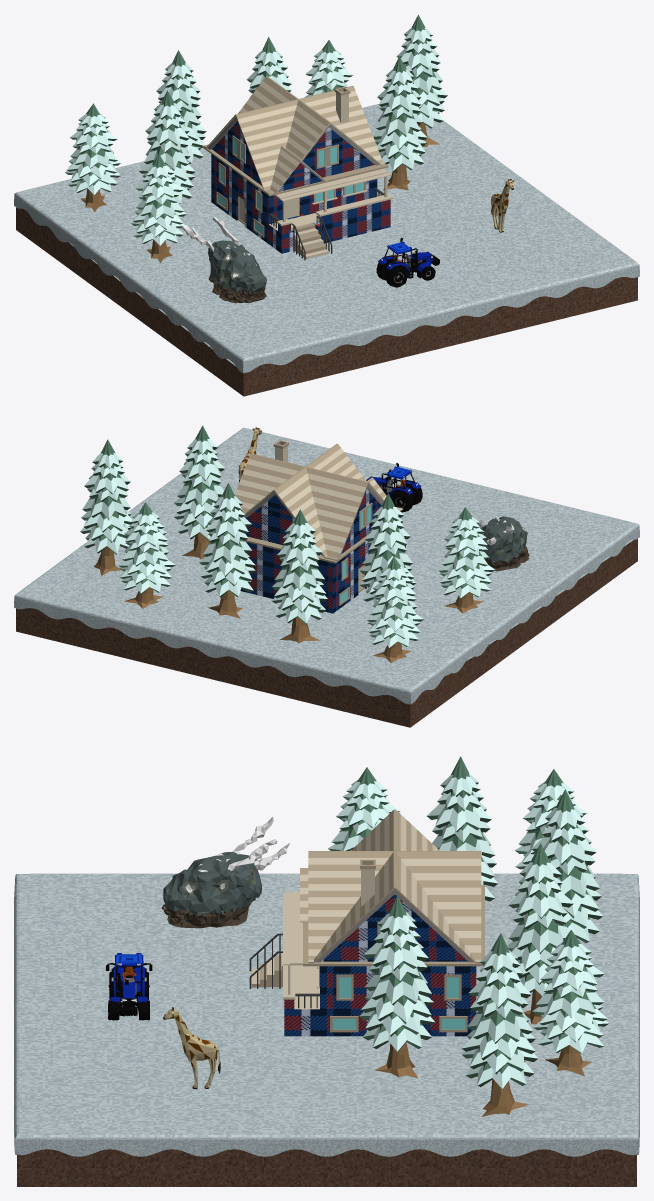
The picture shows the model from 3 angles, top to bottom: view 1: azimuth 30°, elevation 25°; view 2: azimuth 150°, elevation 25°; view 3: azimuth 270°, elevation 25°; orthographic projection. The views are drawn at different scales.
Visible parts, largest first — view 1: Cube.003, Cube.171, OBJRANDOM_METEORITE, VEHICLES_TRACTOR, ANIMAL_JIRAFA; view 2: Cube.003, Cube.171, OBJRANDOM_METEORITE, VEHICLES_TRACTOR; view 3: Cube.003, Cube.171, OBJRANDOM_METEORITE, VEHICLES_TRACTOR, ANIMAL_JIRAFA.
Part boxes in pixels (x1,y1,x2,y2): Cube.003: (14,14,639,396); Cube.171: (202,76,393,260); OBJRANDOM_METEORITE: (181,216,266,303); VEHICLES_TRACTOR: (376,237,439,287); ANIMAL_JIRAFA: (491,179,514,232); Cube.003: (14,425,639,727); Cube.171: (234,440,405,613); OBJRANDOM_METEORITE: (477,516,529,571); VEHICLES_TRACTOR: (366,462,422,512); Cube.003: (14,756,639,1186); Cube.171: (249,809,484,1036); OBJRANDOM_METEORITE: (161,817,289,928); VEHICLES_TRACTOR: (106,953,152,1020); ANIMAL_JIRAFA: (163,1007,220,1089).
Size of the model in its own units: 4040 by 1665 by 4040.
31 materials, 4 textured.
